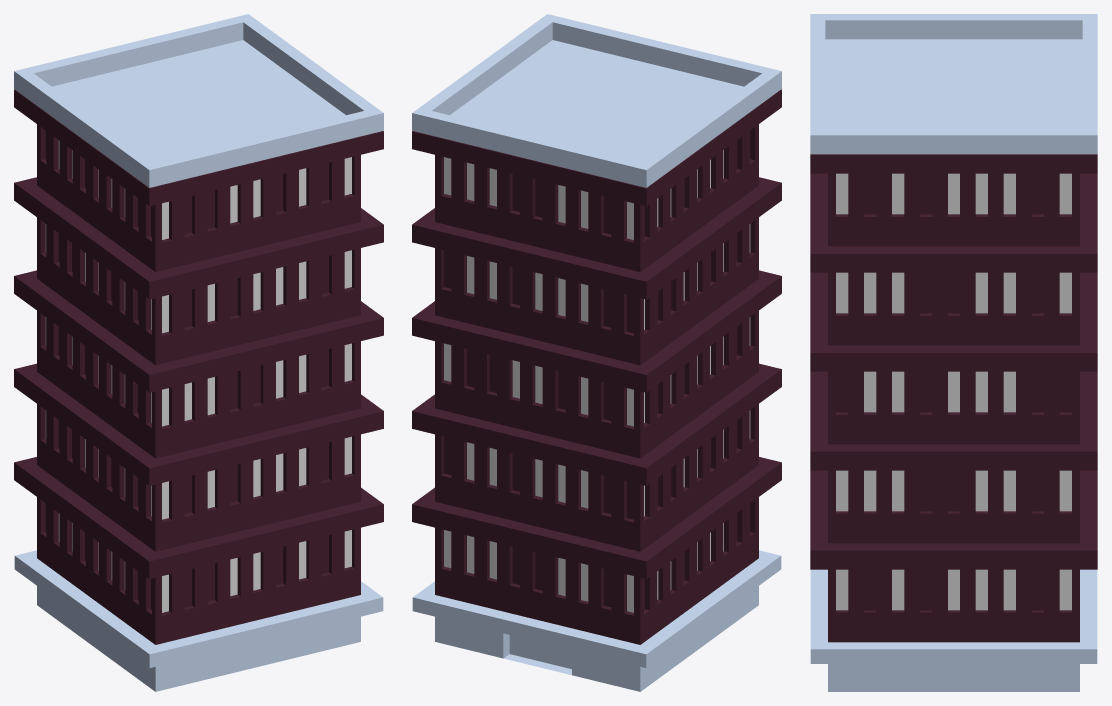
File: Buliding_1.fbx
The picture shows the model from 3 angles, left to right: view 1: azimuth 30°, elevation 25°; view 2: azimuth 150°, elevation 25°; view 3: azimuth 270°, elevation 25°; orthographic projection. The views are drawn at different scales.
Visible parts, largest first — view 1: Plane; view 2: Plane; view 3: Plane.
Boxes of the visible parts, <box> form: Plane: <box>14,14,383,691</box>; Plane: <box>412,14,781,691</box>; Plane: <box>810,14,1097,691</box>.
Size of the model in its own units: 1141 by 2470 by 1141.
